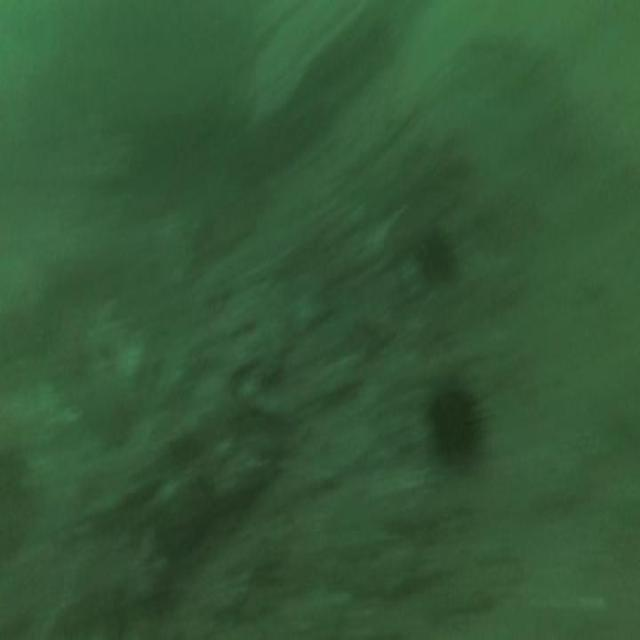echinus: (430, 386, 479, 464), (420, 229, 454, 289)
